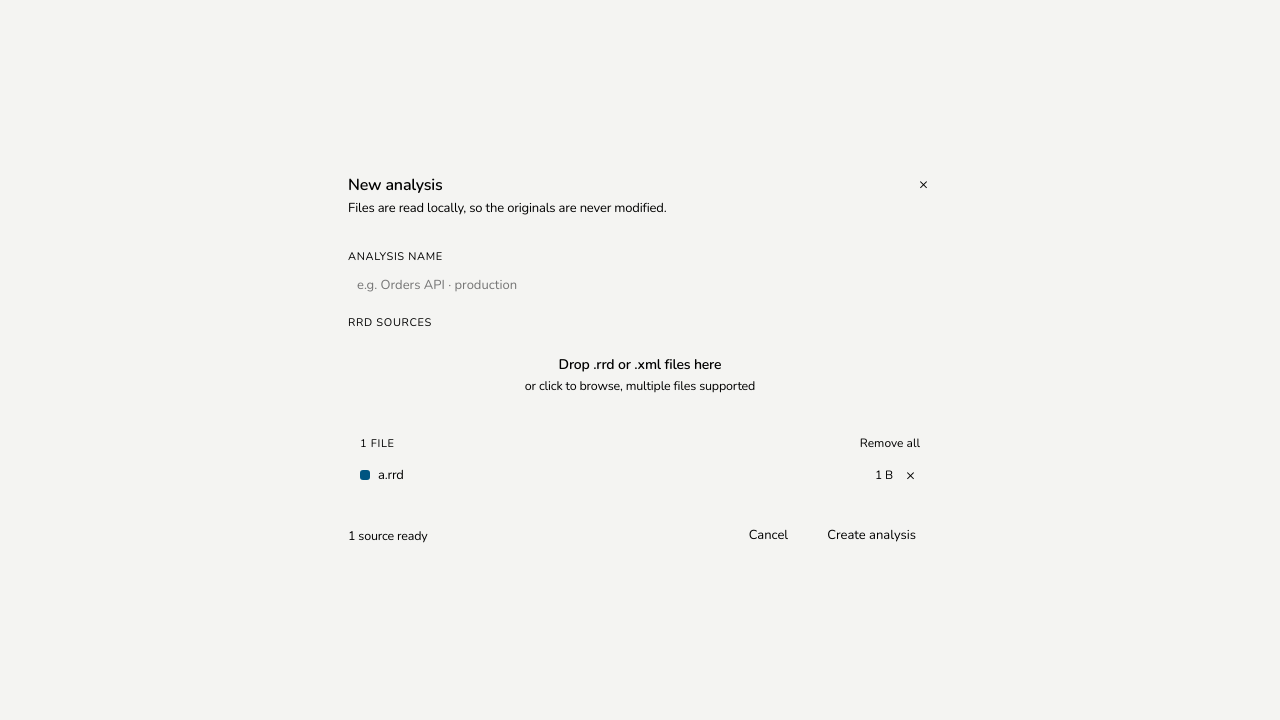
Test: NewAnalysisDialogComponent › refuses a second Create, and to close, while the first is still on its way
Click the button with class "new-analysis-dialog-create" at (872,535), box left=811, top=520, right=932, bottom=550
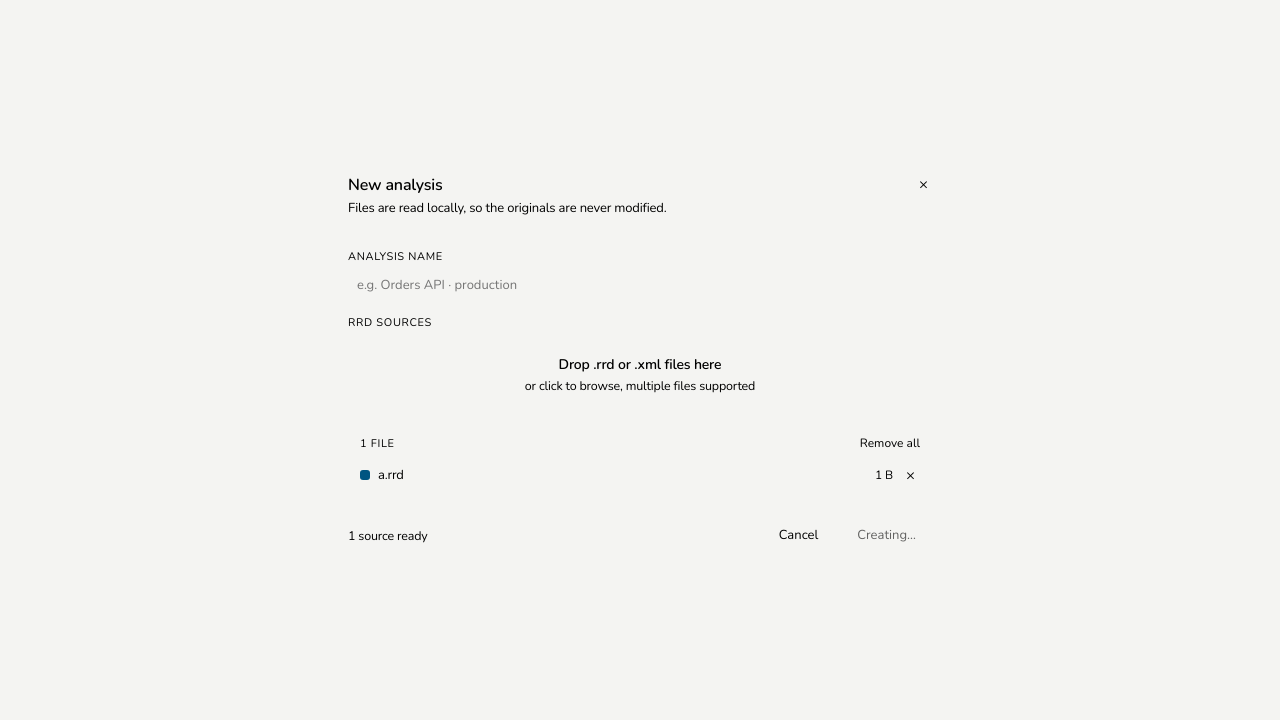
Expected: the button with class "new-analysis-dialog-create" reads "Creating…"
Click the button with class "new-analysis-dialog-create" at (887,535), box left=841, top=520, right=932, bottom=550
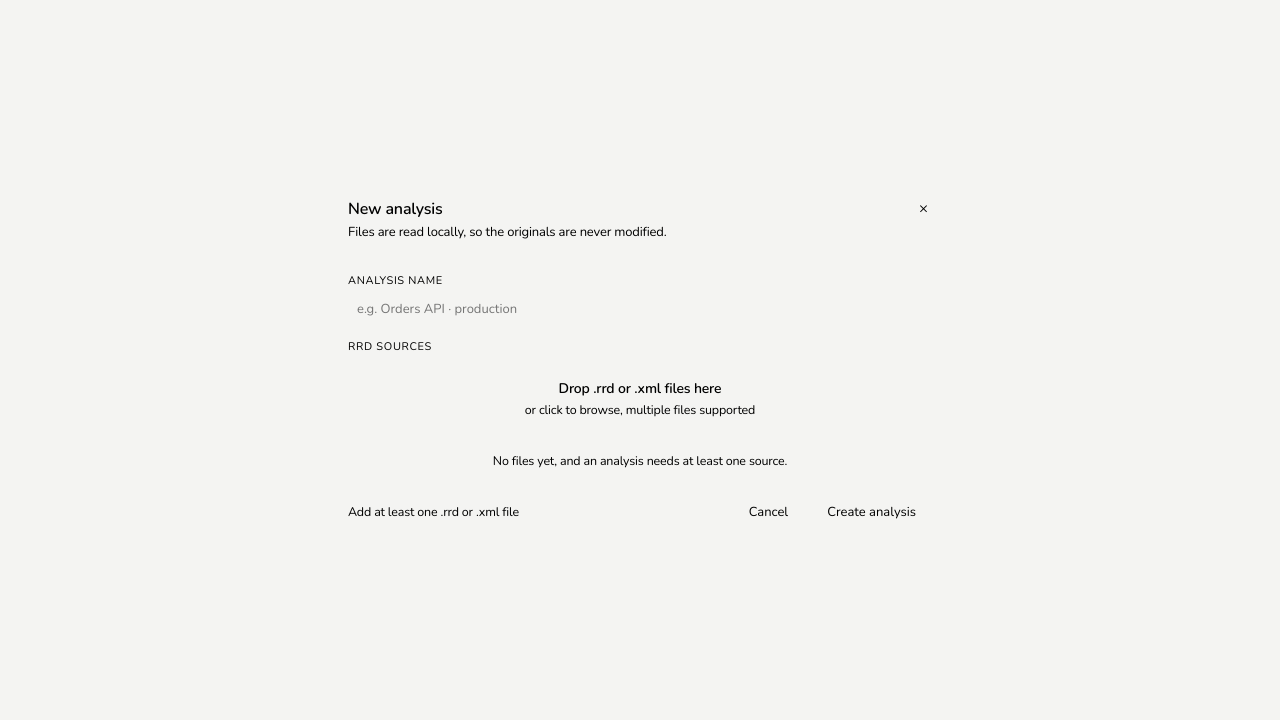
Expected: the button with class "new-analysis-dialog-create" reads "Create analysis", left=811, top=496, right=932, bottom=526
